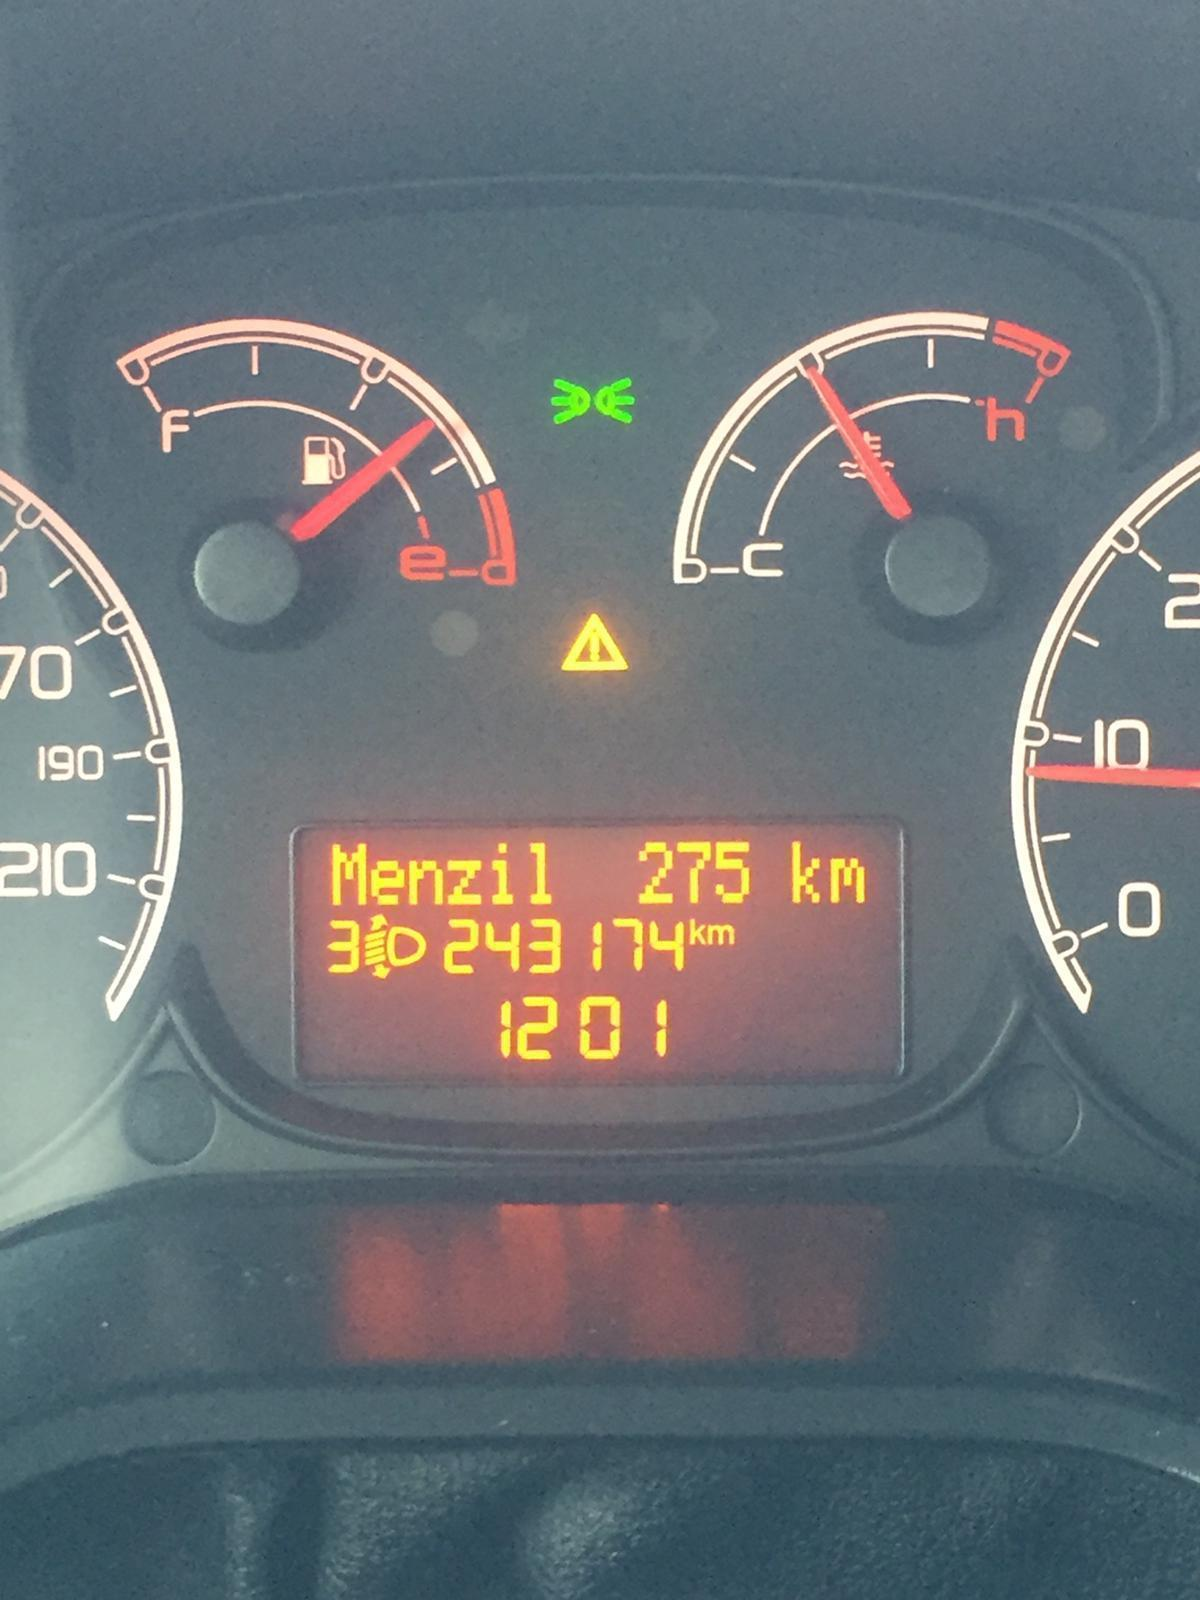0: (576, 991, 624, 1063)
1: (647, 994, 677, 1062), (495, 994, 514, 1057), (589, 917, 606, 973)
2: (514, 994, 558, 1063), (635, 840, 677, 908), (441, 916, 479, 975)
3: (326, 915, 361, 974), (526, 918, 561, 974)
4: (483, 917, 521, 974), (645, 920, 684, 974)
5: (713, 838, 755, 908)
7: (677, 839, 713, 906), (611, 917, 645, 973)
X: (329, 840, 367, 906), (790, 838, 824, 905), (526, 838, 555, 910), (445, 858, 484, 907), (408, 857, 445, 906), (829, 857, 866, 905), (371, 857, 407, 903), (488, 843, 511, 910), (688, 915, 710, 947), (707, 923, 734, 946)
odometer: (285, 814, 911, 1089)
